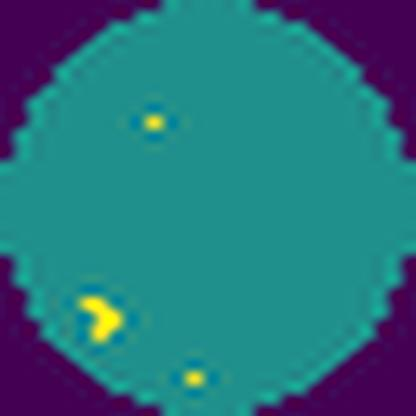Edge-Loc: (82, 295, 122, 340)
